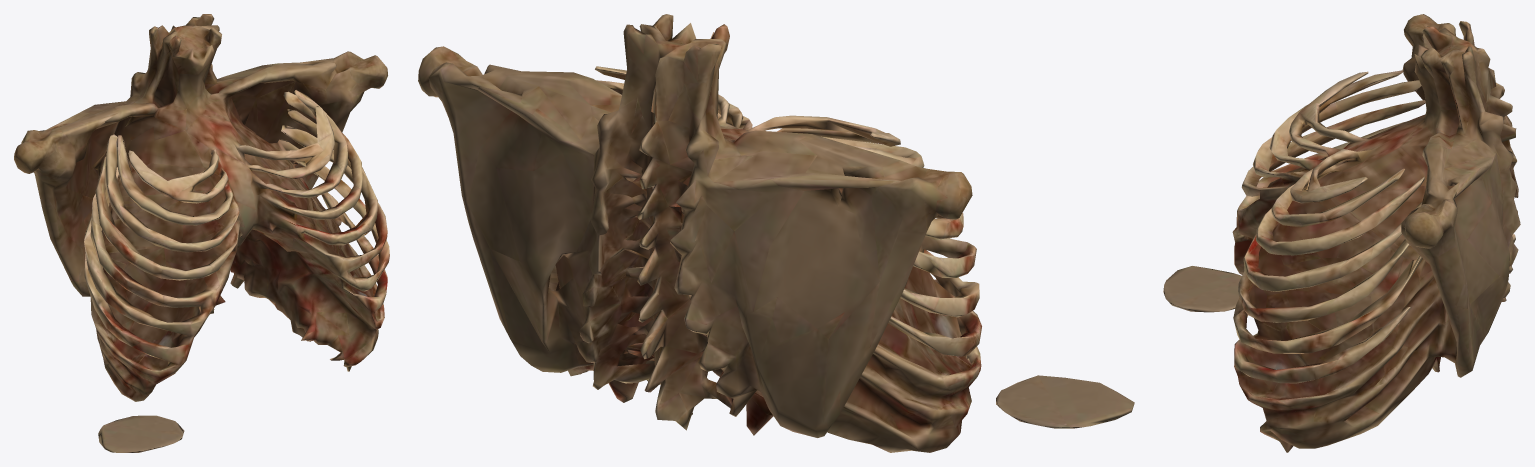
The model's file is ribhalf.glb.
3 renders of one model, left to right at view 1: azimuth 30°, elevation 25°; view 2: azimuth 150°, elevation 25°; view 3: azimuth 270°, elevation 25°, orthographic. The views are drawn at different scales.
Parts seen in each view (by area): view 1: Mesh_0; view 2: Mesh_0; view 3: Mesh_0.
Boxes of the visible parts, box(x1,y1,x2,y2) form: Mesh_0: box(14, 14, 389, 452); Mesh_0: box(418, 14, 1134, 452); Mesh_0: box(1163, 14, 1520, 452).
Bounding box in the file's own units: 1.9 × 1.51 × 1.34.
1 material, 1 textured.
